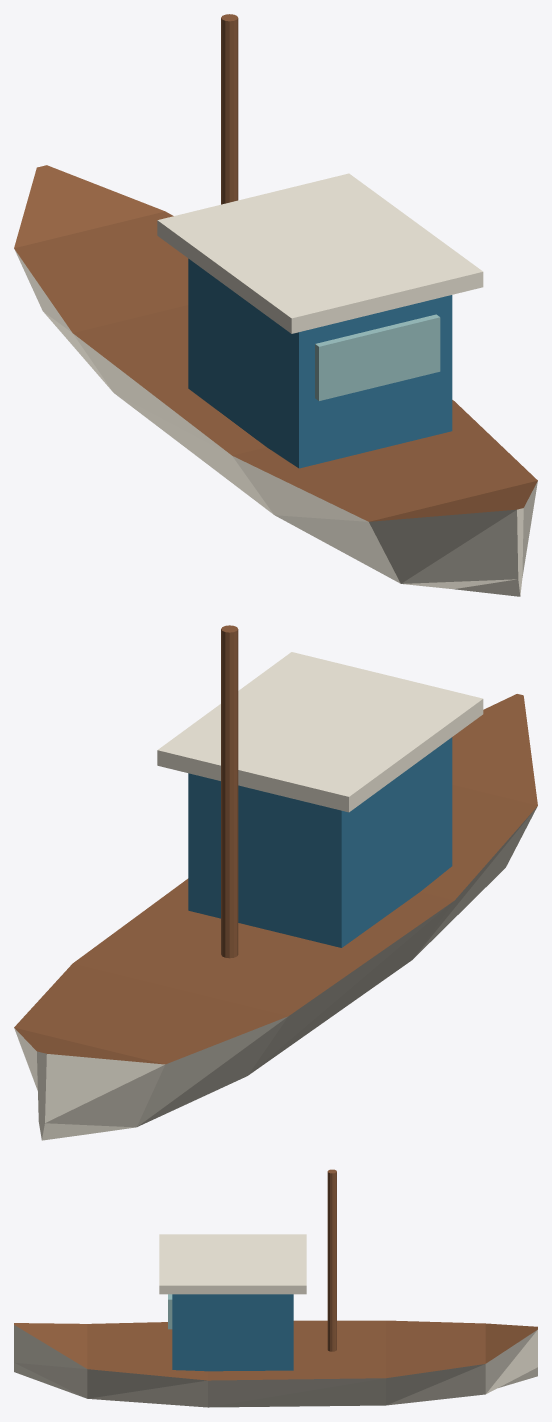
The model's file is 024_motor_fishing_boat.glb.
3 renders of one model, top to bottom at view 1: azimuth 30°, elevation 25°; view 2: azimuth 150°, elevation 25°; view 3: azimuth 270°, elevation 25°, orthographic. The views are drawn at different scales.
Parts seen in each view (by area): view 1: Motor fishing boat; view 2: Motor fishing boat; view 3: Motor fishing boat.
Boxes of the visible parts, x1,y1,x2,y2 form: Motor fishing boat: (14, 14, 537, 596); Motor fishing boat: (14, 625, 537, 1140); Motor fishing boat: (14, 1169, 537, 1407).
Bounding box in the file's own units: 1.8 × 3.21 × 6.7.
